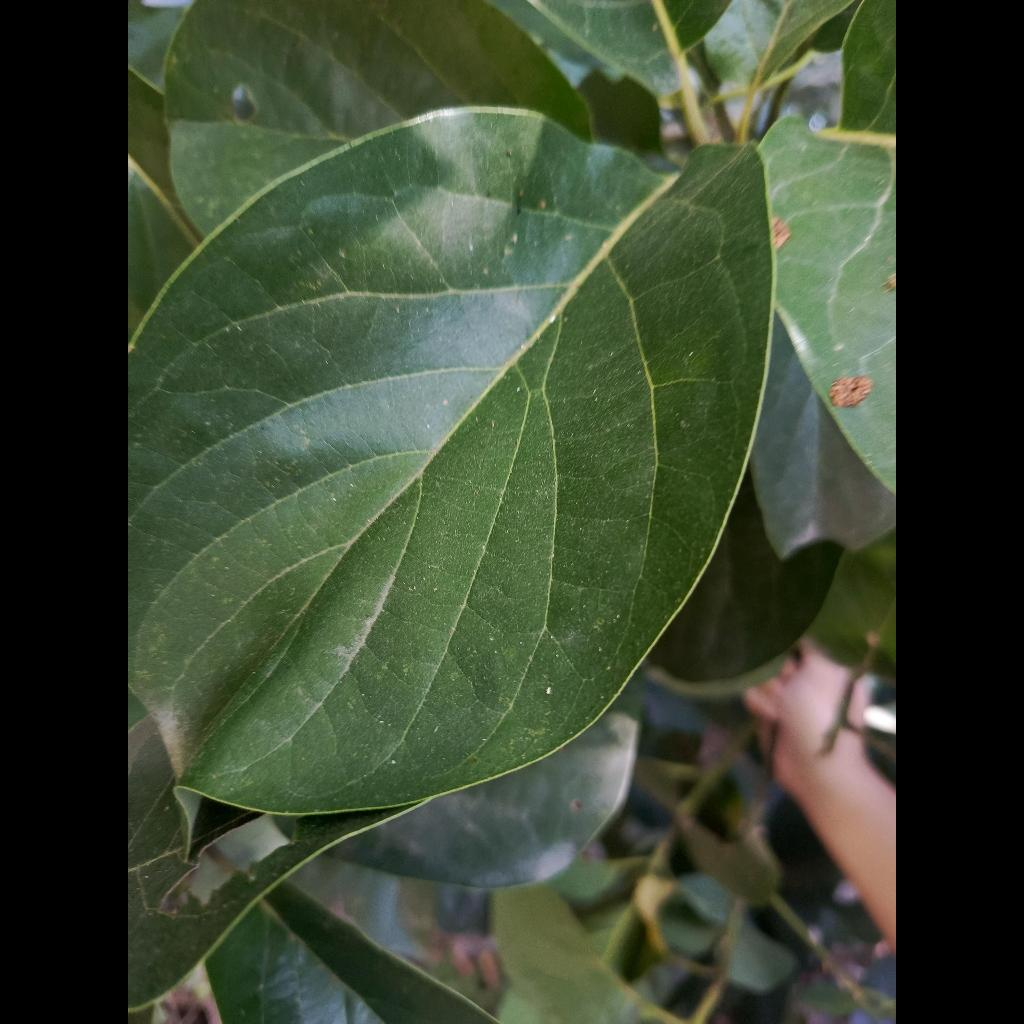Healthy: (128, 108, 773, 815)
